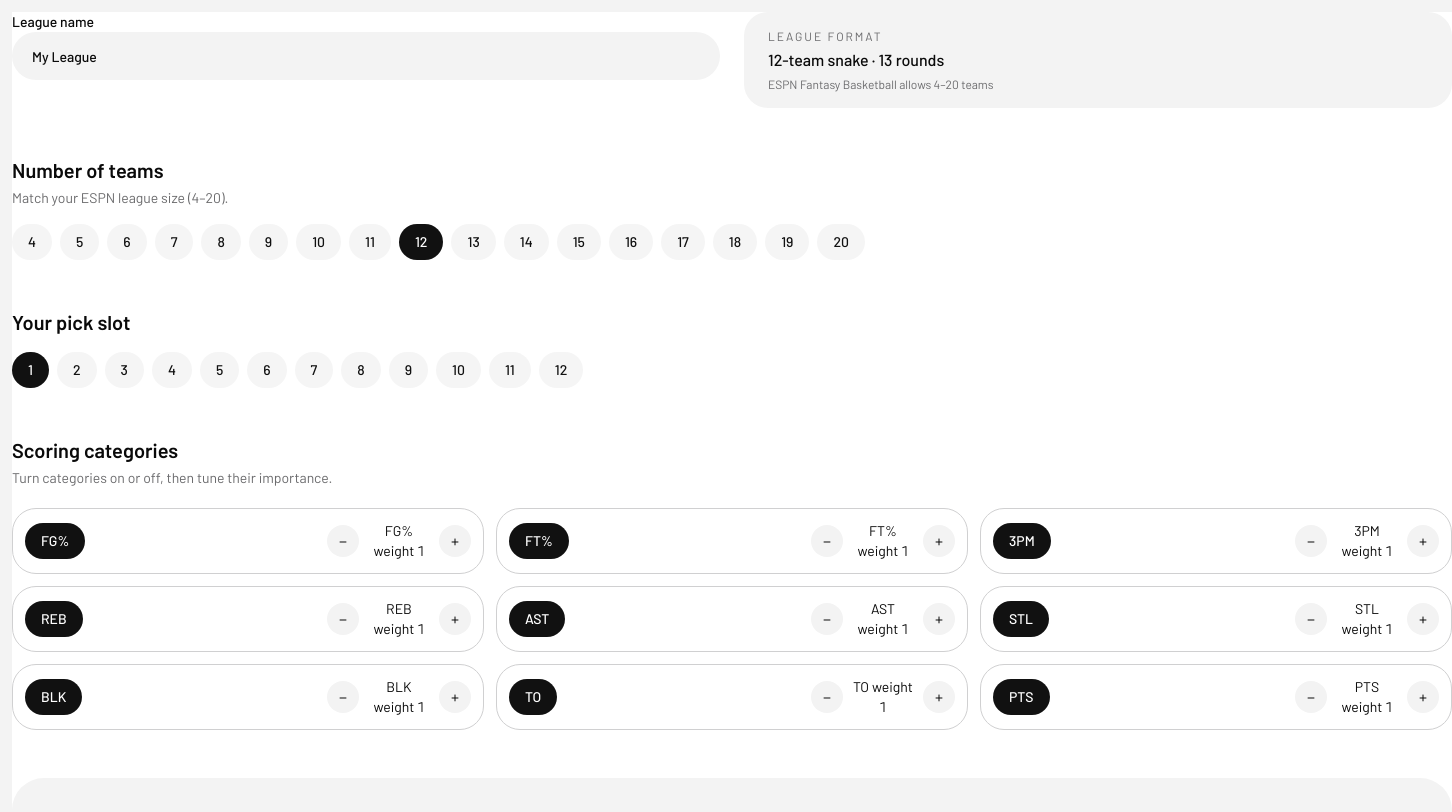
Test: LeagueSetupForm › lets users configure their pick slot and category weights
What coordinates should you click on to do the following:
click the button named "Pick slot 7"
I would click on:
 (314, 370)
Its box is [294,352,333,388].
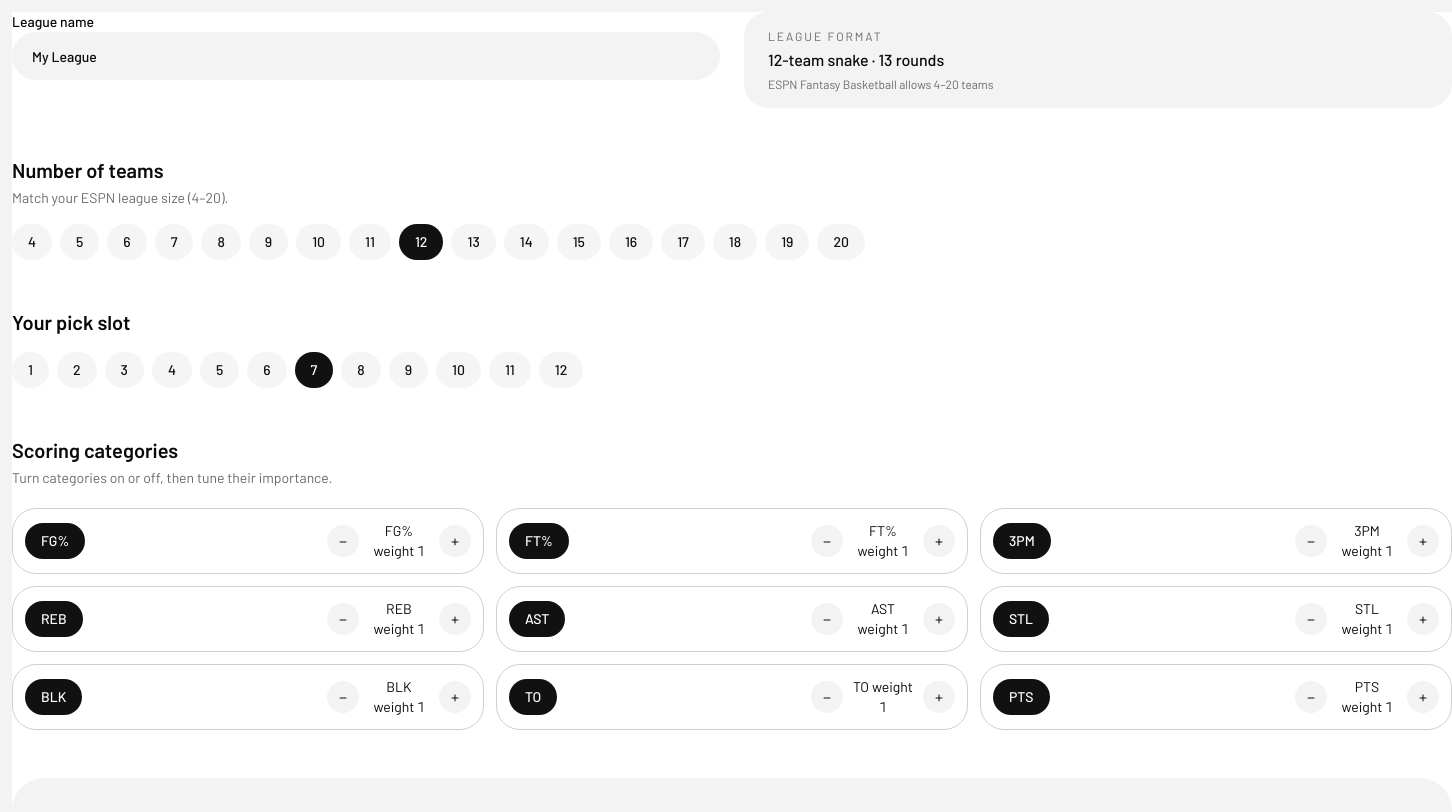
What coordinates should you click on to do the following:
click the button with aria-label "Disable PTS"
I would click on:
 (1021, 697)
Its box is [993,679,1050,715].
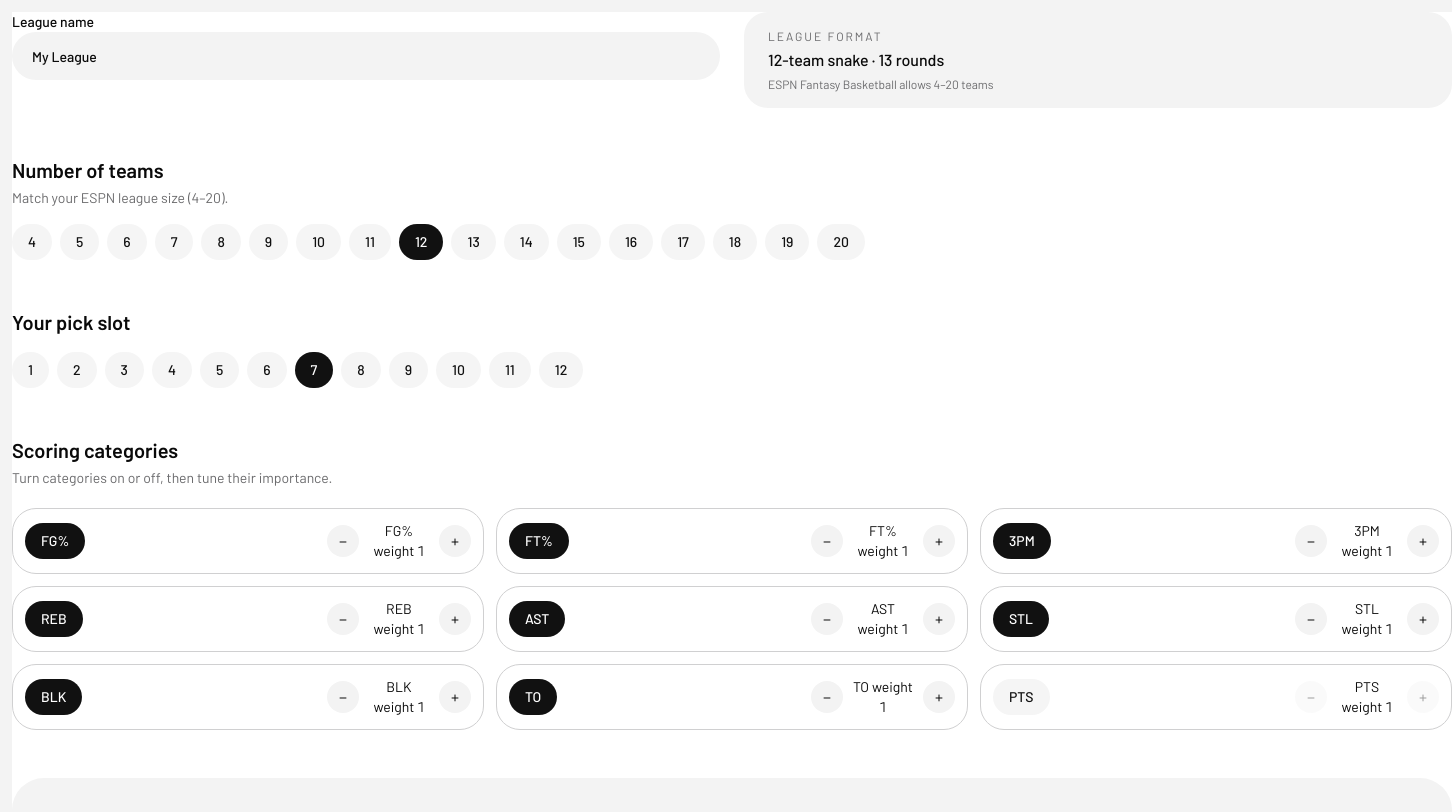
What coordinates should you click on to do the following:
click the button named "Increase AST weight"
I would click on:
 (939, 619)
Its box is [923,603,955,635].
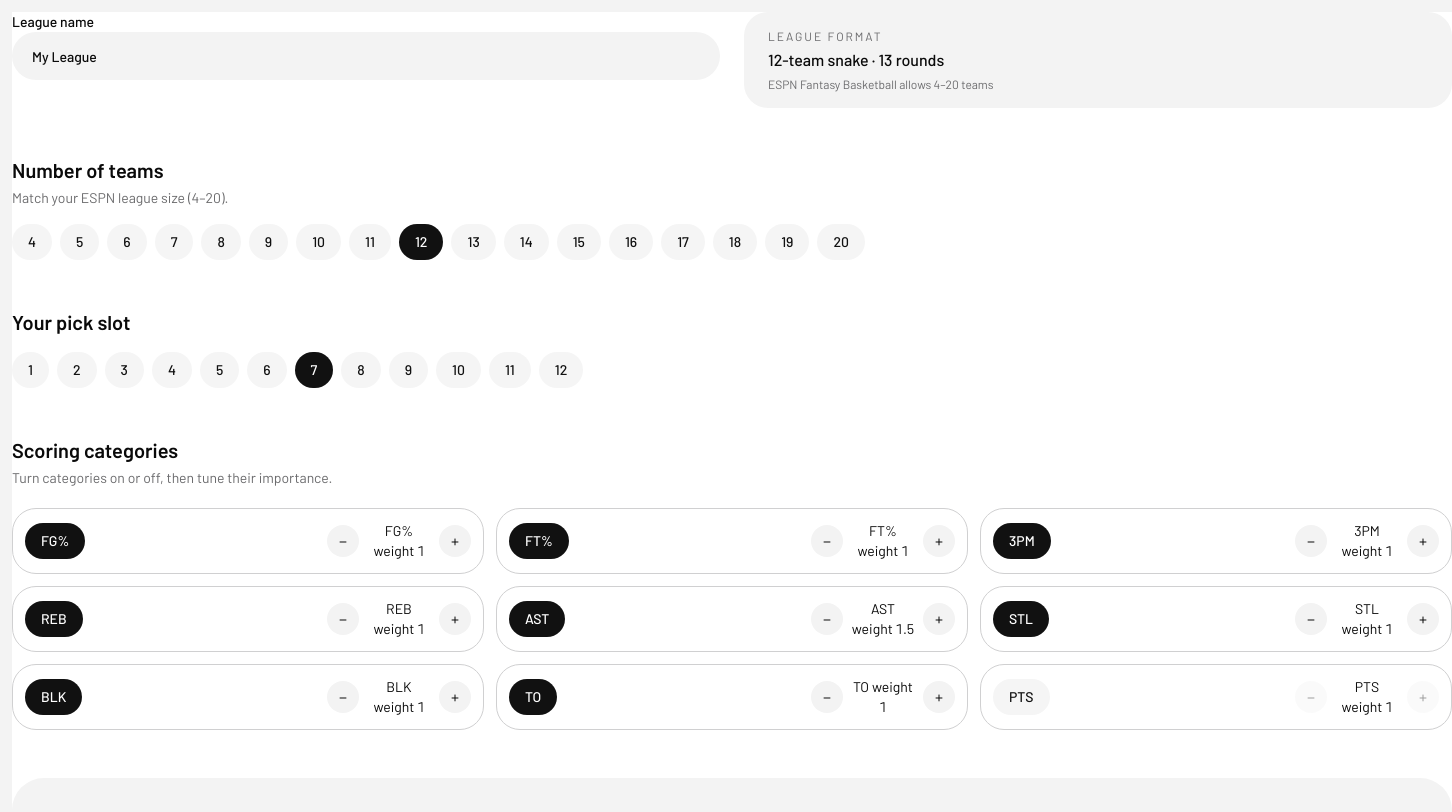
Expected: the text "AST weight 1.5" is shown, [851,599,915,639]
